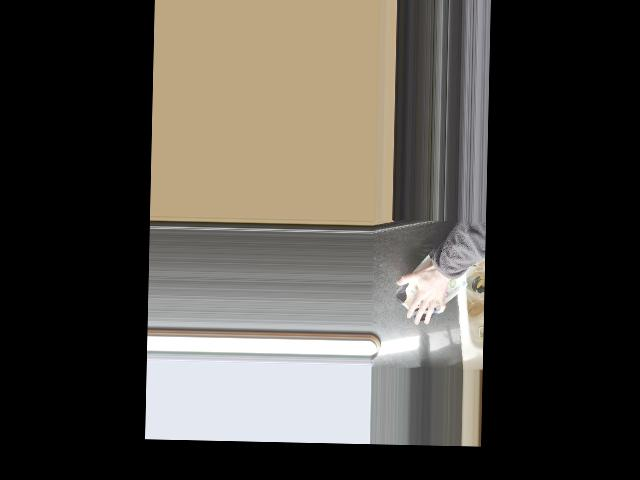cheese: (393, 248, 470, 325)
